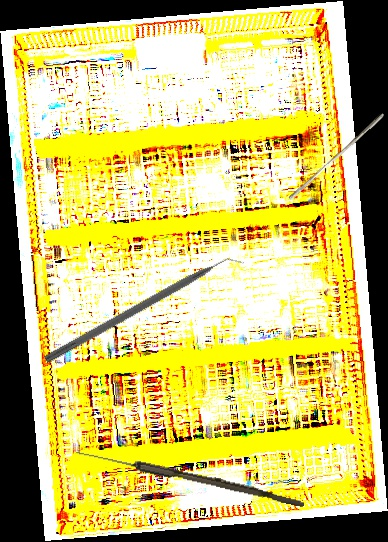Chopper: (43, 248, 247, 375)
Pusher: (287, 109, 386, 204)
Surgical Spoon: (74, 447, 306, 508)
